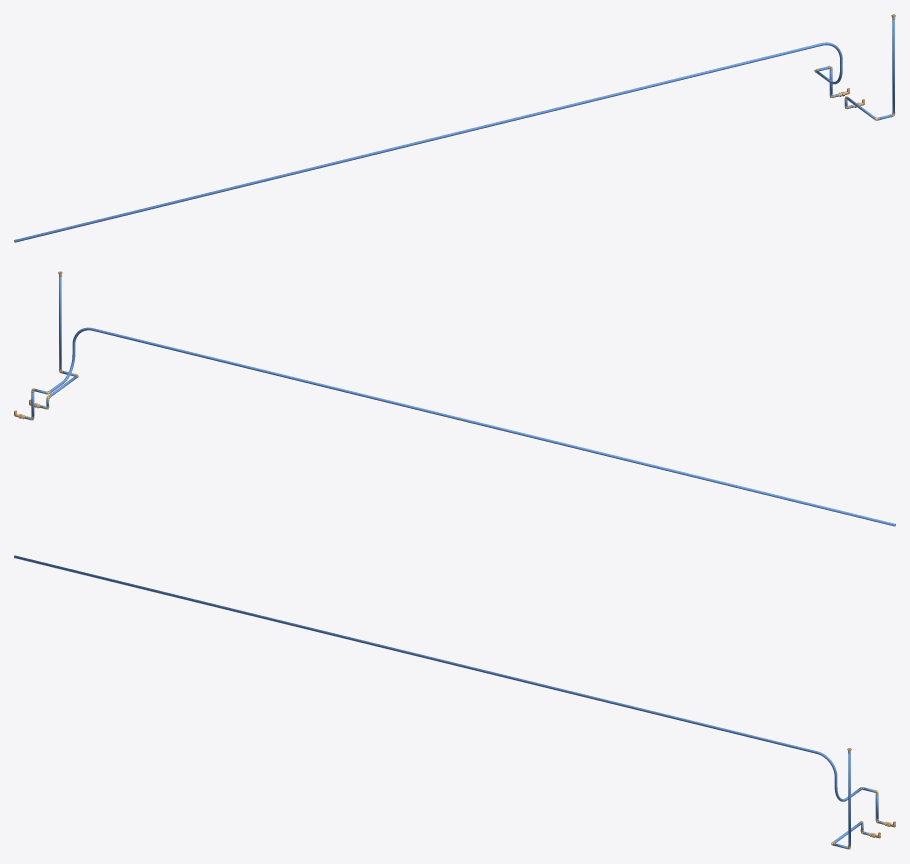
Rendered from pipes_supply__softener-yes_and_plumbing-pex.glb.
3 renders of one model, top to bottom at view 1: azimuth 30°, elevation 25°; view 2: azimuth 150°, elevation 25°; view 3: azimuth 330°, elevation 25°, orthographic.
Visible parts, largest first — view 1: pipe_supply_from_softener__pex, pipe_supply_softener_feed__pex; view 2: pipe_supply_from_softener__pex; view 3: pipe_supply_from_softener__pex.
Boxes of the visible parts, left/top/right/bottom form: pipe_supply_from_softener__pex: left=14, top=42, right=842, bottom=242; pipe_supply_softener_feed__pex: left=844, top=18, right=894, bottom=119; pipe_supply_from_softener__pex: left=25, top=327, right=895, bottom=526; pipe_supply_from_softener__pex: left=14, top=555, right=883, bottom=824.
Bounding box in the file's own units: 7.92 × 0.9886 × 0.7567.
